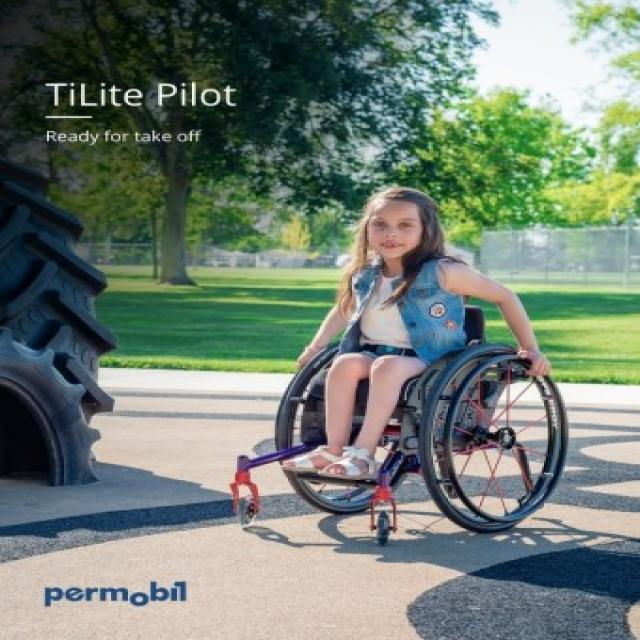wheelchair: (224, 184, 572, 546)
